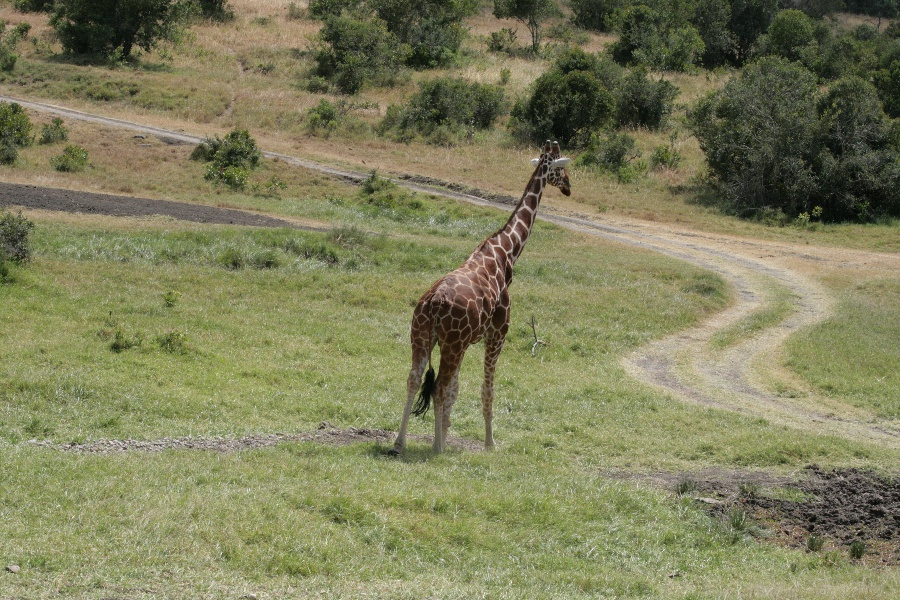giraffe: (381, 129, 580, 463)
